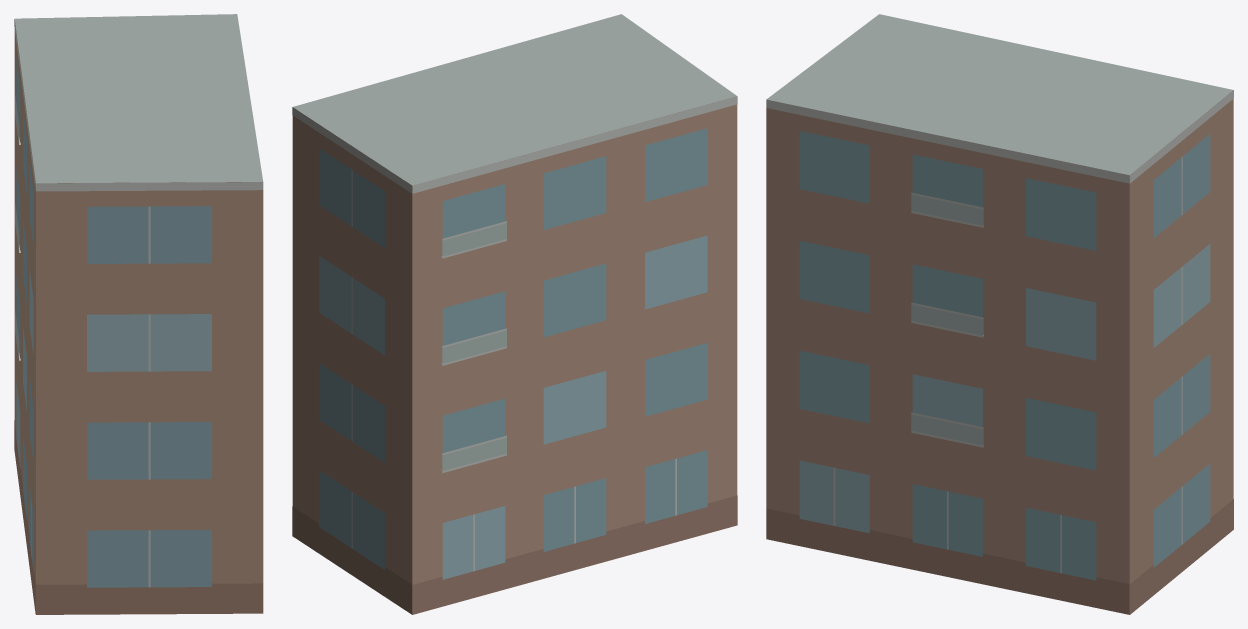
Rendered from survey-upis-32727136.glb.
3 views of the same model, side by side, from view 1: azimuth 30°, elevation 25°; view 2: azimuth 150°, elevation 25°; view 3: azimuth 270°, elevation 25° (orthographic). The views are drawn at different scales.
Visible parts, largest first — view 1: survey-upis-32727136.tmp; view 2: survey-upis-32727136.tmp; view 3: survey-upis-32727136.tmp.
Part boxes in pixels (x1,y1,x2,y2): survey-upis-32727136.tmp: (14,14,263,614); survey-upis-32727136.tmp: (292,14,737,614); survey-upis-32727136.tmp: (766,14,1233,614).
Bounding box in the file's own units: 10.08 × 12.8 × 12.35.
